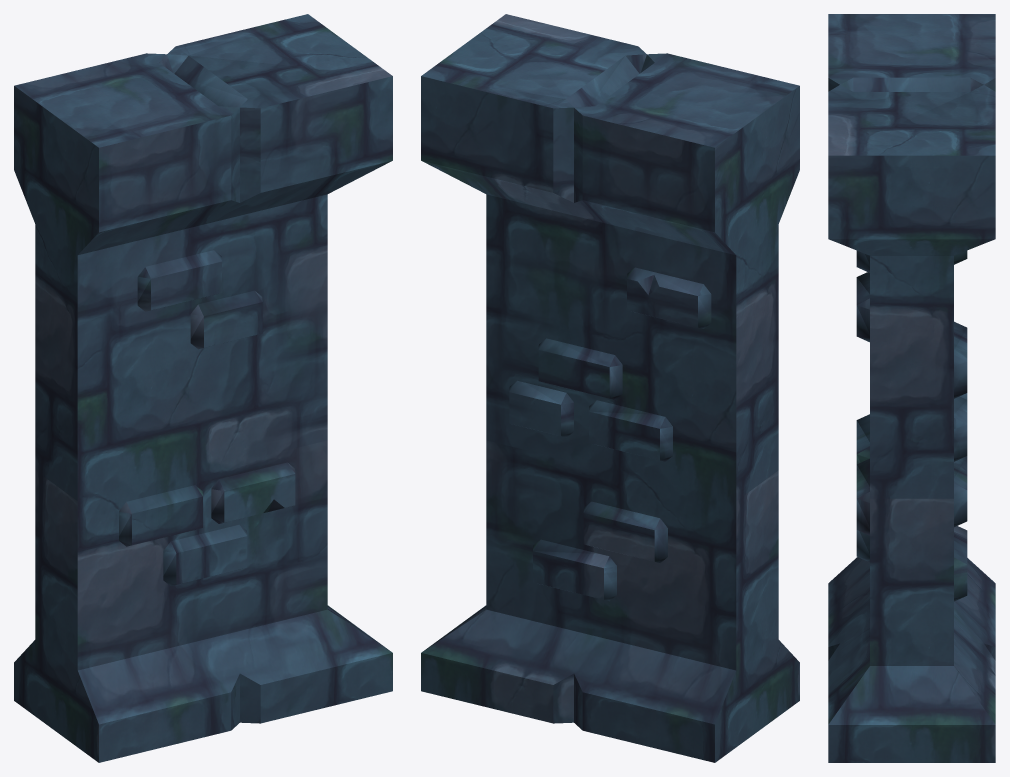
The model's file is wall_half_endcap.gltf.
The picture shows the model from 3 angles, left to right: view 1: azimuth 30°, elevation 25°; view 2: azimuth 150°, elevation 25°; view 3: azimuth 270°, elevation 25°; orthographic projection.
Parts seen in each view (by area): view 1: wall_half_endcap; view 2: wall_half_endcap; view 3: wall_half_endcap.
Part boxes in pixels (box(x1,y1,x2,y2)): wall_half_endcap: box(14, 14, 392, 762); wall_half_endcap: box(421, 14, 799, 762); wall_half_endcap: box(828, 14, 995, 762).
Bounding box in the file's own units: 2 × 4 × 1.
Materials: 1 (1 with a texture image).
